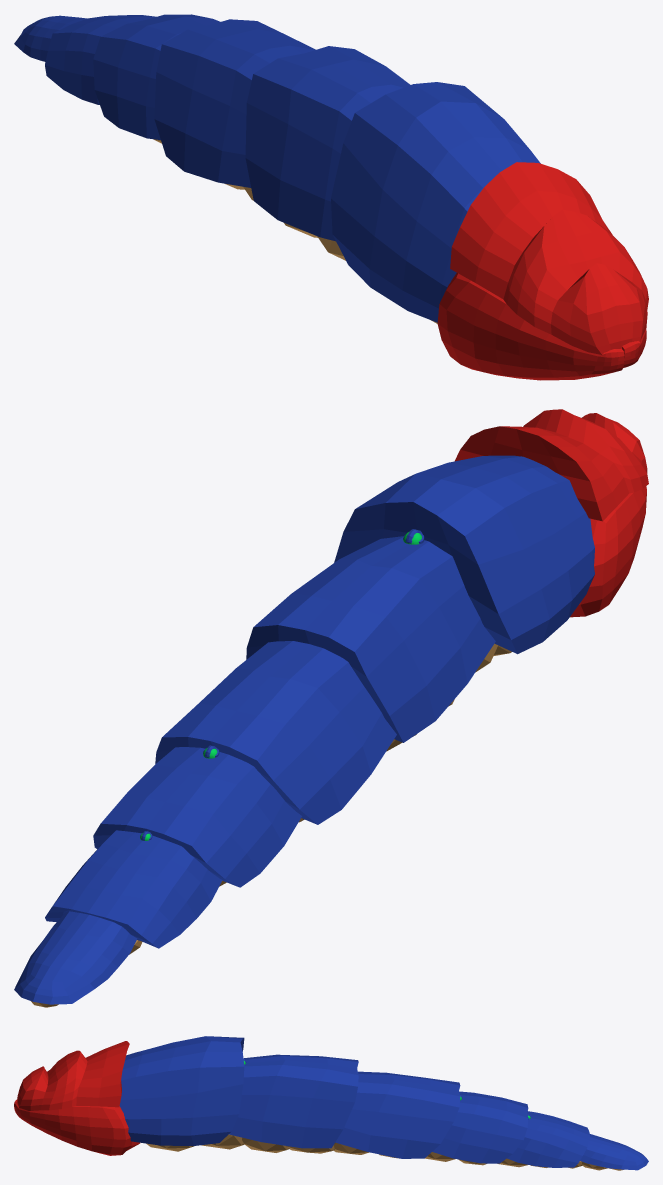
File: GigaWorm 1.fbx
3 views of the same model, one above another, from view 1: azimuth 30°, elevation 25°; view 2: azimuth 150°, elevation 25°; view 3: azimuth 270°, elevation 25° (orthographic). The views are drawn at different scales.
Parts seen in each view (by area): view 1: Body1, Jaw_up, Body2, Body3, Jaw_right, Body4, Body5, Body6; view 2: Body1, Body2, Body3, Body4, Body5, Jaw_up, Body6, Jaw_right; view 3: Body1, Body2, Body3, Jaw_up, Body4, Jaw_left, Body5, Body6, slug03, slug02, slug05, slug04.
Part boxes in pixels (left/top/right/bottom): Body1: left=331, top=82, right=540, bottom=322; Jaw_up: left=450, top=162, right=648, bottom=355; Body2: left=245, top=46, right=410, bottom=241; Body3: left=154, top=19, right=315, bottom=187; Jaw_right: left=437, top=273, right=624, bottom=380; Body4: left=93, top=14, right=220, bottom=139; Body5: left=45, top=15, right=156, bottom=104; Body6: left=14, top=15, right=86, bottom=61; Body1: left=334, top=455, right=594, bottom=654; Body2: left=246, top=536, right=495, bottom=742; Body3: left=155, top=641, right=396, bottom=824; Body4: left=93, top=747, right=301, bottom=887; Body5: left=45, top=830, right=222, bottom=948; Jaw_up: left=455, top=409, right=648, bottom=521; Body6: left=14, top=911, right=137, bottom=1004; Jaw_right: left=570, top=486, right=646, bottom=617; Body1: left=119, top=1036, right=244, bottom=1145; Body2: left=229, top=1054, right=358, bottom=1148; Body3: left=335, top=1071, right=460, bottom=1158; Jaw_up: left=17, top=1041, right=129, bottom=1110; Body4: left=432, top=1091, right=528, bottom=1163; Jaw_left: left=14, top=1102, right=140, bottom=1155; Body5: left=507, top=1111, right=589, bottom=1167; Body6: left=580, top=1134, right=648, bottom=1170; slug03: left=242, top=1137, right=289, bottom=1152; slug02: left=202, top=1134, right=244, bottom=1149; slug05: left=333, top=1142, right=369, bottom=1154; slug04: left=286, top=1145, right=334, bottom=1153.
Bounding box in the file's own units: 355 × 448 × 2019.
